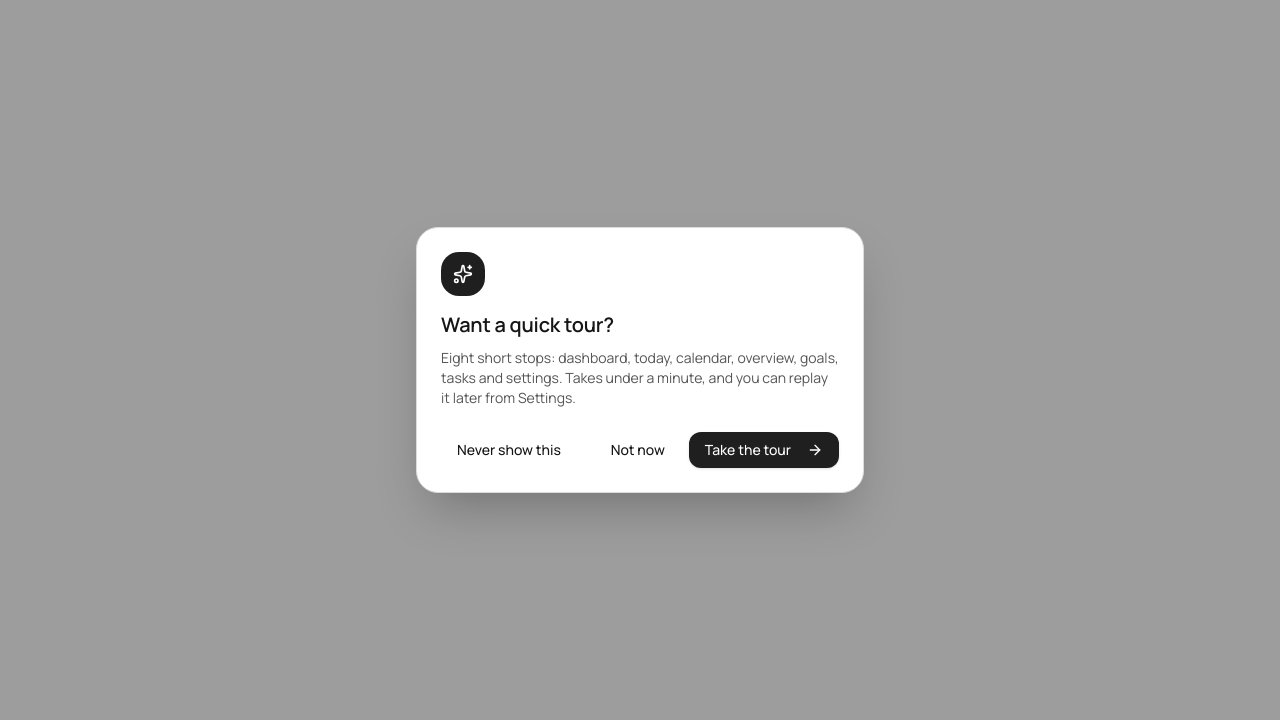
Product tour › asks whether to start, then walks the first dashboard step
Expected: the heading "Want a quick tour?" is shown, [441,313,614,338]
What coordinates should you click on to do the following:
click the button "Take the tour"
I would click on:
 (764, 450)
Its box is [689,432,839,468].
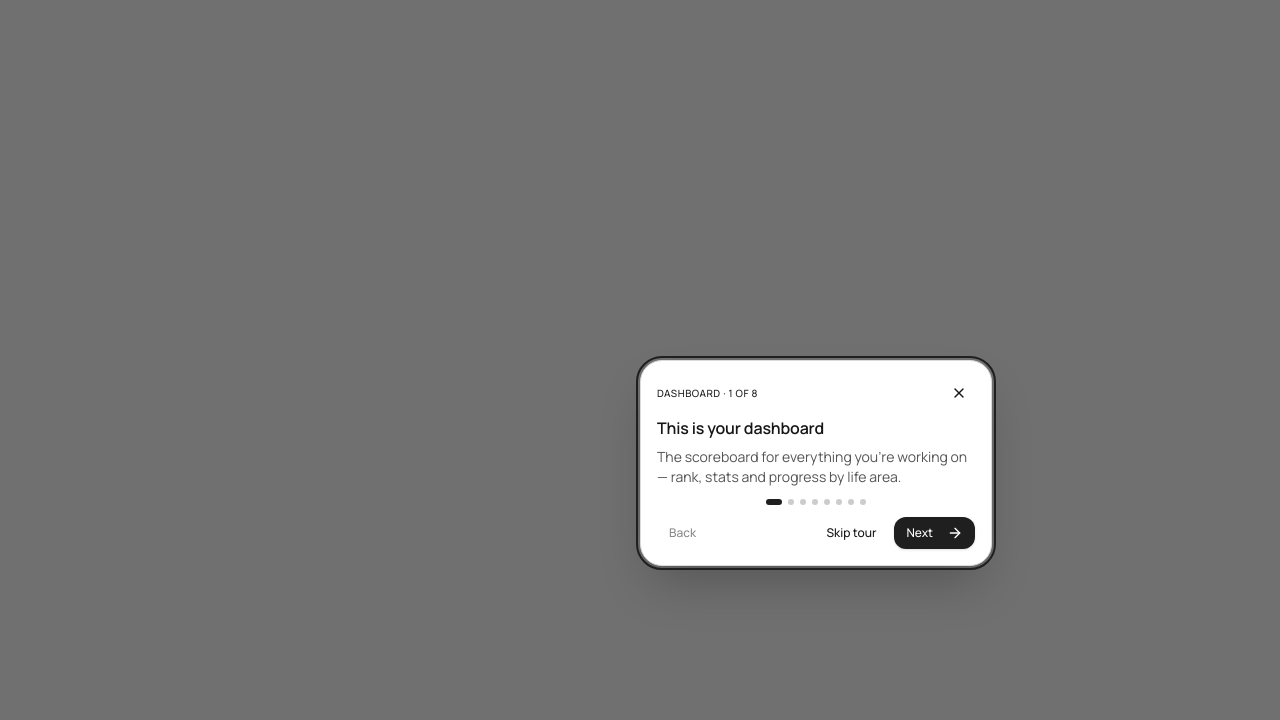
Result: the heading "This is your dashboard" is shown at [657,418,824,439]
Result: the text "Dashboard · 1 of 8" is shown at [657,386,758,400]
